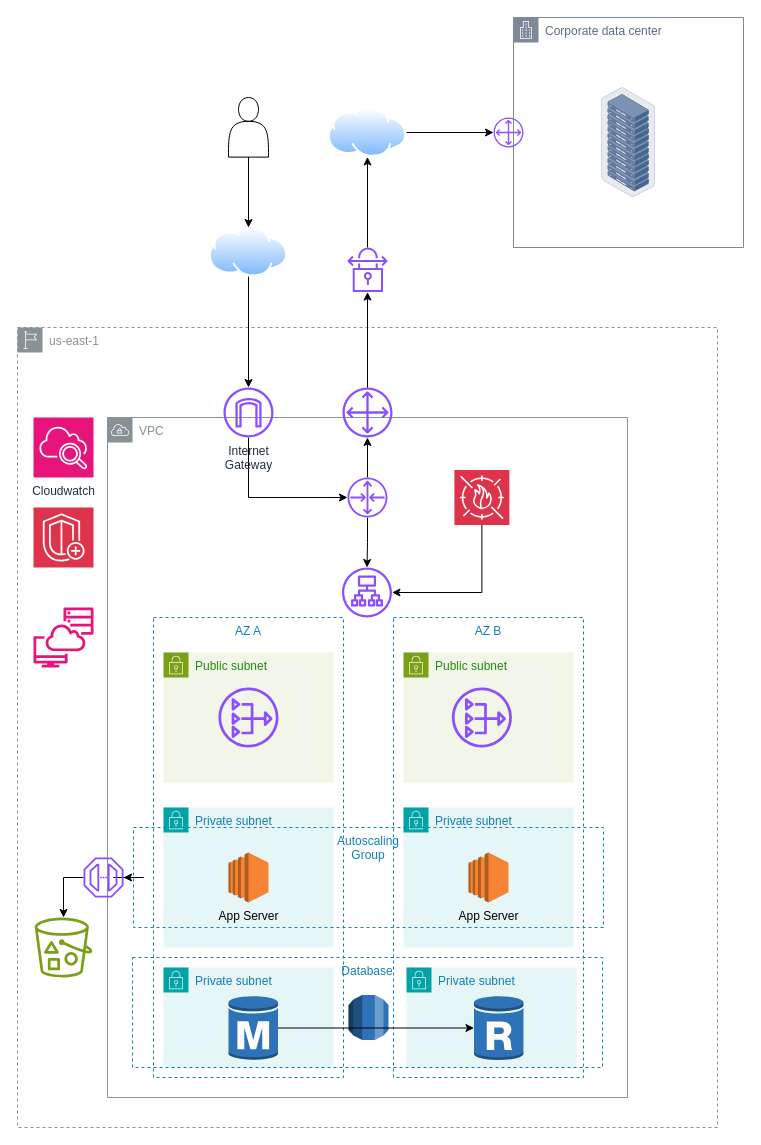
Image size: 761x1145. Some labels were removed from this diagram. The shapes that lost their labels are listed below. From the top down, each one's centre as x and y in pixels, then its label:
At point (508, 132): "Customer Gateway".
At point (367, 412): "VPC Gateway".
At point (367, 497): "Router".
At point (481, 497): "WAF".
At point (63, 537): "Shield".
At point (367, 592): "ALB".
At point (63, 637): "Session Manager".
At point (63, 947): "Attachments".
